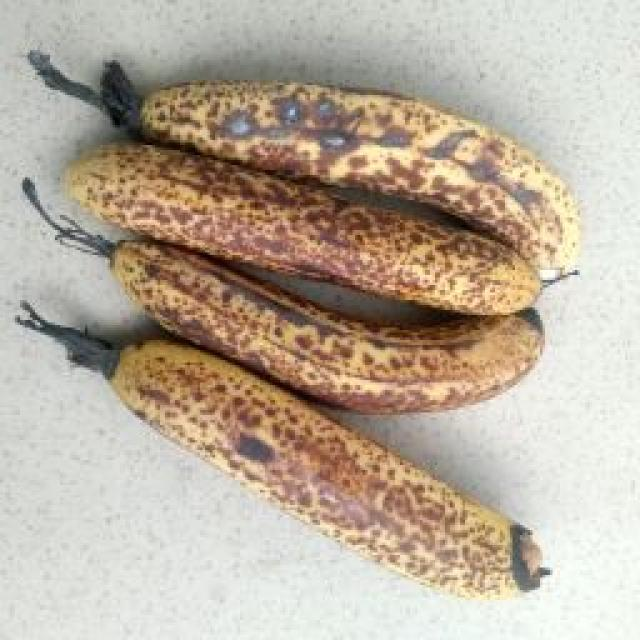banana: (46, 163, 541, 560)
